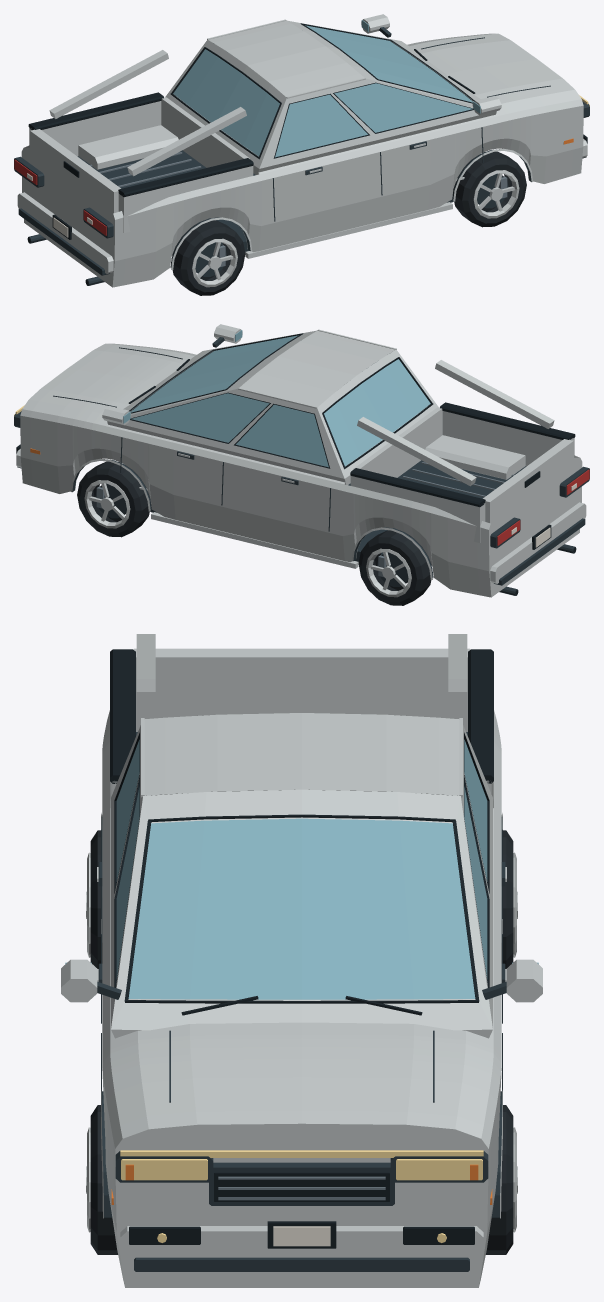
File: b03_angular_electric_pickup.glb
3 views of the same model, one above another, from view 1: azimuth 30°, elevation 25°; view 2: azimuth 150°, elevation 25°; view 3: azimuth 270°, elevation 25° (orthographic). The views are drawn at different scales.
Parts seen in each view (by area): view 1: b03_angular_electric_pickup; view 2: b03_angular_electric_pickup; view 3: b03_angular_electric_pickup.
Boxes of the visible parts, <box> form: b03_angular_electric_pickup: <box>14,14,589,295</box>; b03_angular_electric_pickup: <box>14,324,589,605</box>; b03_angular_electric_pickup: <box>61,634,542,1287</box>.
Size of the model in its own units: 5.89 by 1.98 by 2.52.
